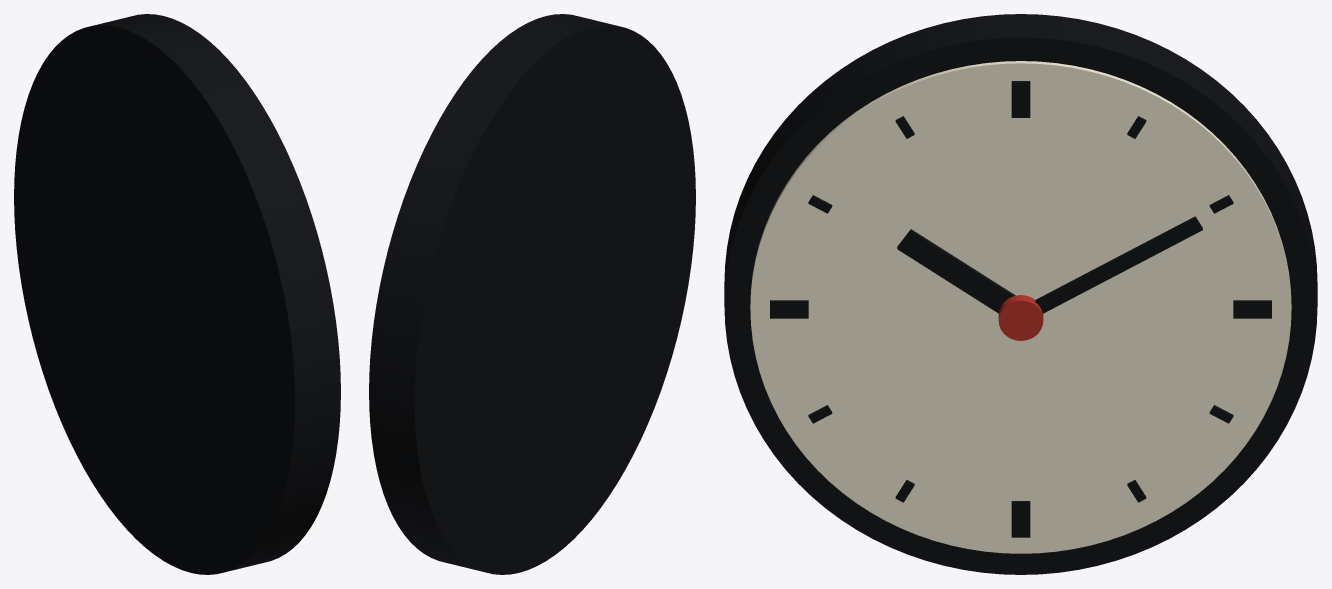
File: clock.dae
The picture shows the model from 3 angles, left to right: view 1: azimuth 30°, elevation 25°; view 2: azimuth 150°, elevation 25°; view 3: azimuth 270°, elevation 25°; orthographic projection. The views are drawn at different scales.
Visible parts, largest first — view 1: wall_clock; view 2: wall_clock; view 3: wall_clock.
Boxes of the visible parts, x1,y1,x2,y2 form: wall_clock: (14, 14, 340, 574); wall_clock: (369, 14, 695, 574); wall_clock: (724, 14, 1317, 574).
Bounding box in the file's own units: 0.0485 × 0.32 × 0.32.
